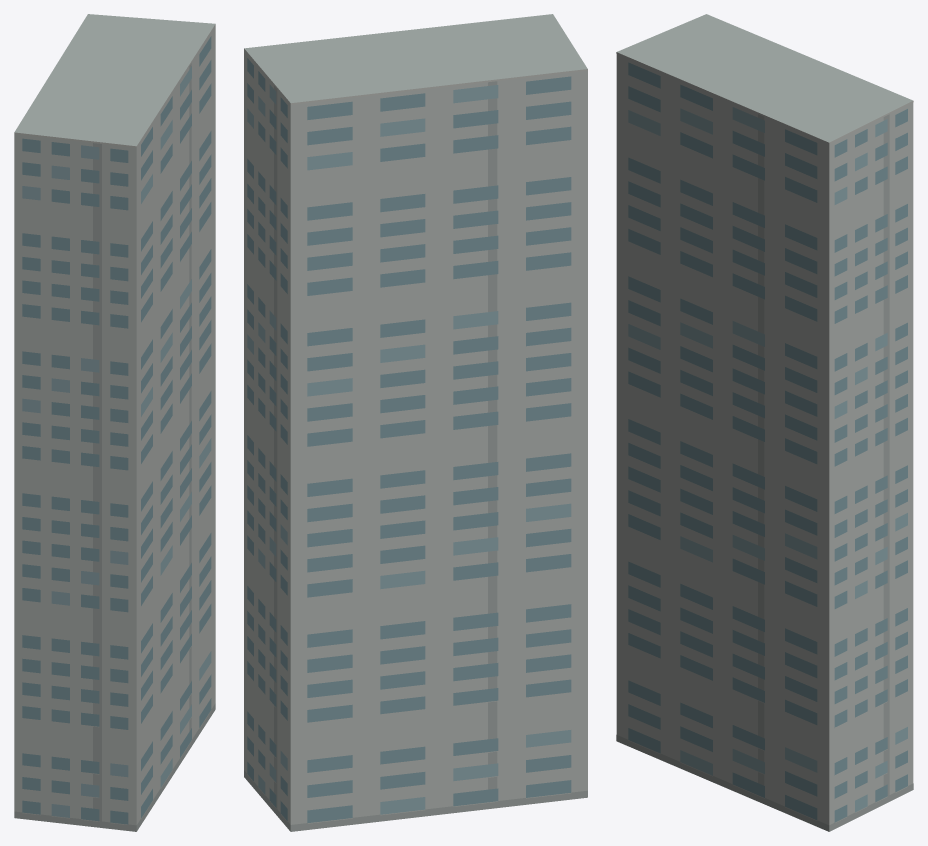
File: residential-a4834453-13a9-42bf-a879-8d0e0e5489b0.glb
3 renders of one model, left to right at view 1: azimuth 30°, elevation 25°; view 2: azimuth 150°, elevation 25°; view 3: azimuth 270°, elevation 25°, orthographic. The views are drawn at different scales.
Visible parts, largest first — view 1: residential-a4834453-13a9-42bf-a879-8d0e0e5489b0.tmp; view 2: residential-a4834453-13a9-42bf-a879-8d0e0e5489b0.tmp; view 3: residential-a4834453-13a9-42bf-a879-8d0e0e5489b0.tmp.
Boxes of the visible parts, x1,y1,x2,y2 form: residential-a4834453-13a9-42bf-a879-8d0e0e5489b0.tmp: [14, 14, 215, 831]; residential-a4834453-13a9-42bf-a879-8d0e0e5489b0.tmp: [244, 14, 587, 831]; residential-a4834453-13a9-42bf-a879-8d0e0e5489b0.tmp: [616, 14, 913, 831].
Bounding box in the file's own units: 39.66 × 99 × 38.67.
